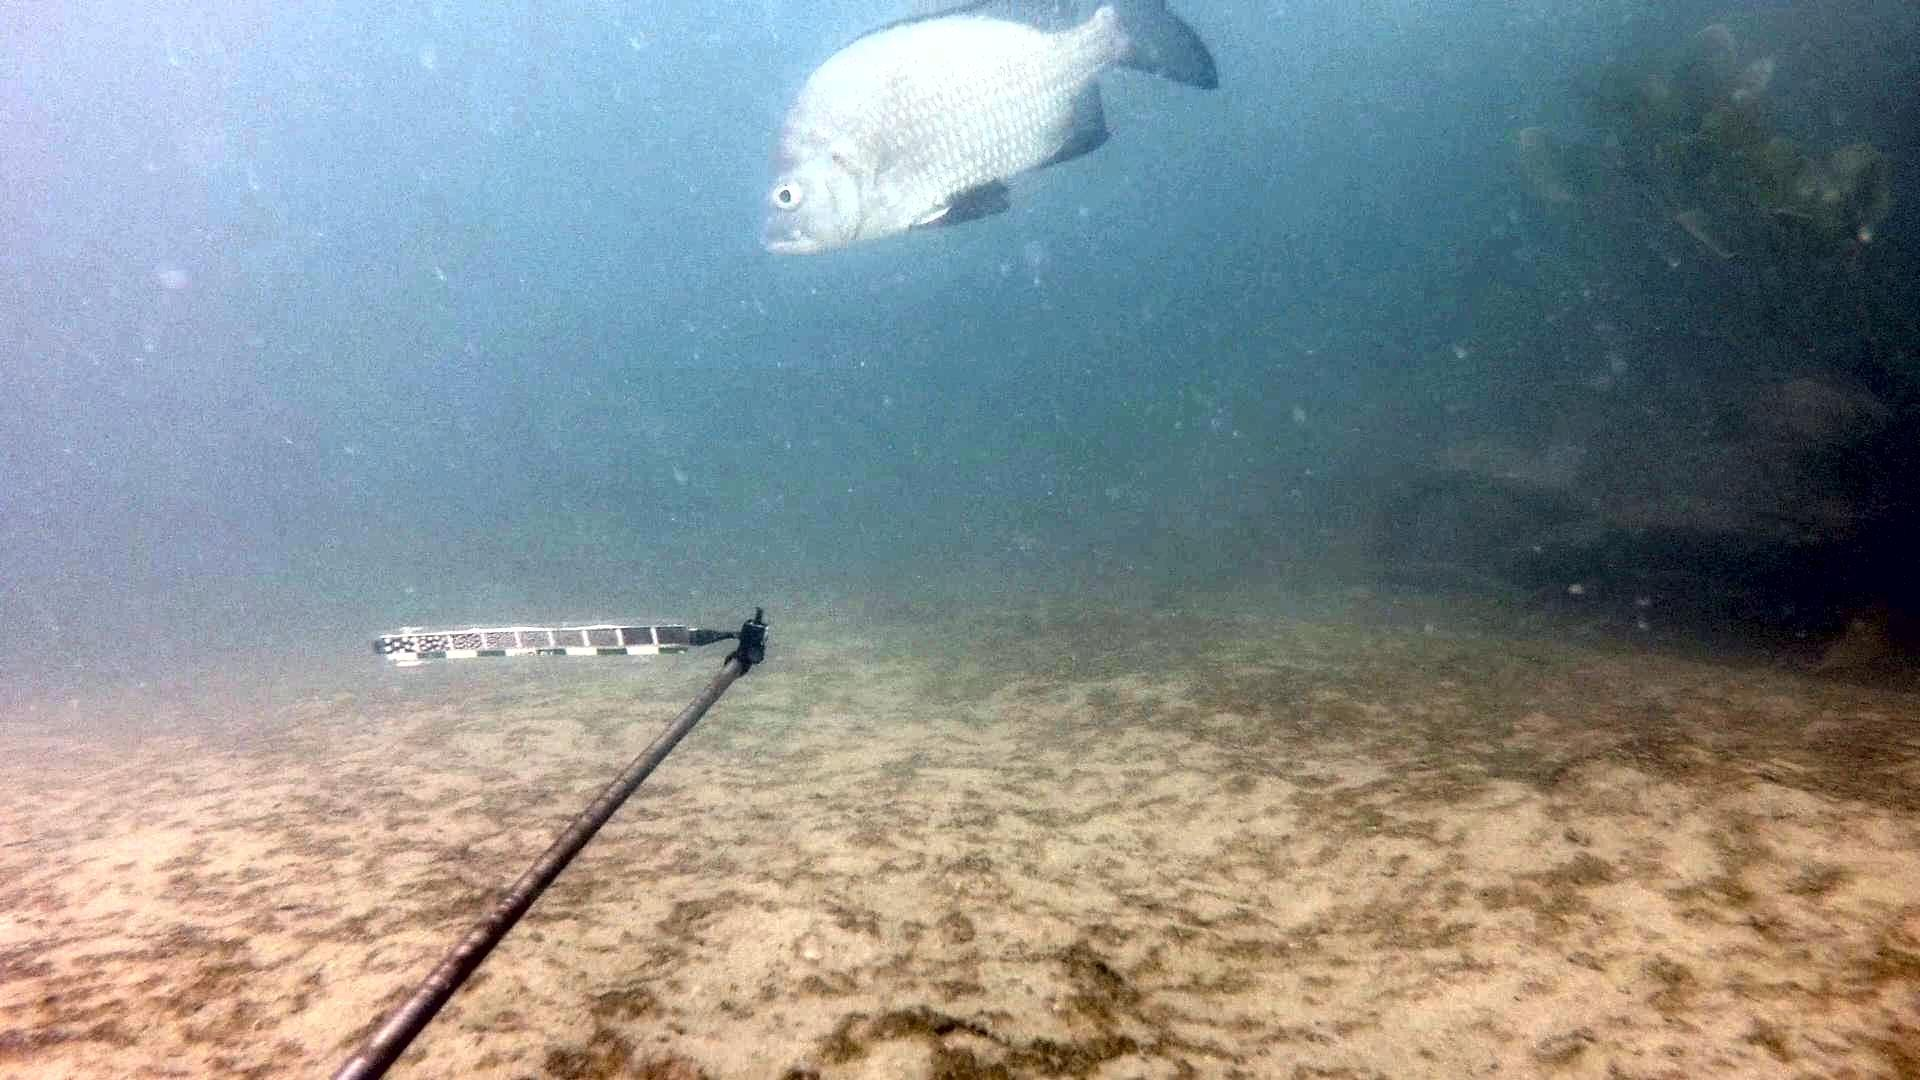acanthopagrus palmaris: (754, 0, 1226, 261)
